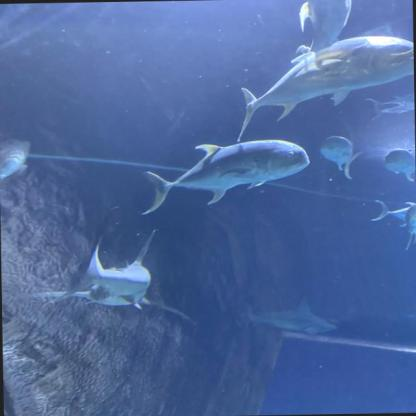fish: (233, 36, 414, 142), (139, 138, 311, 215), (297, 0, 352, 55), (318, 136, 364, 180), (0, 140, 32, 192), (365, 92, 414, 121), (370, 200, 416, 228), (383, 148, 415, 182), (402, 203, 415, 254)
shark: (22, 228, 198, 331), (242, 297, 338, 337)
